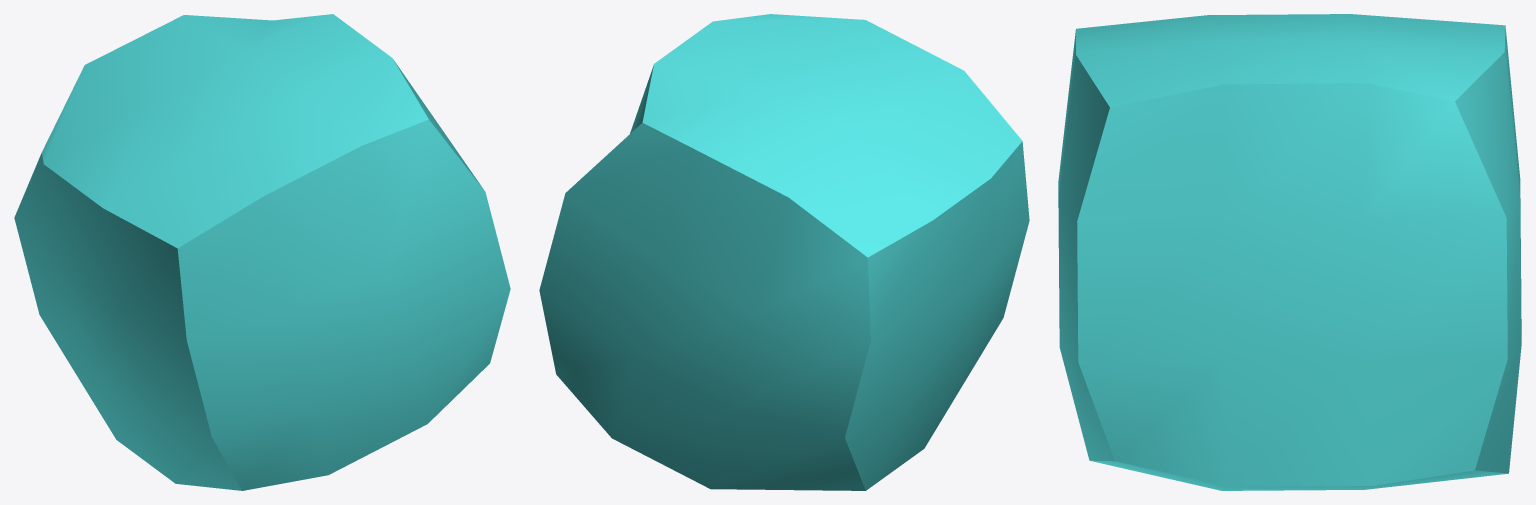
File: BLUEBACTERIA.fbx
3 views of the same model, side by side, from view 1: azimuth 30°, elevation 25°; view 2: azimuth 150°, elevation 25°; view 3: azimuth 270°, elevation 25° (orthographic). The views are drawn at different scales.
Visible parts, largest first — view 1: pCube16; view 2: pCube16; view 3: pCube16.
Boxes of the visible parts, bbox=[...] form: pCube16: bbox=[14, 14, 510, 490]; pCube16: bbox=[539, 14, 1029, 490]; pCube16: bbox=[1058, 14, 1521, 490].
Size of the model in its own units: 4.93 by 4.85 by 4.47.
